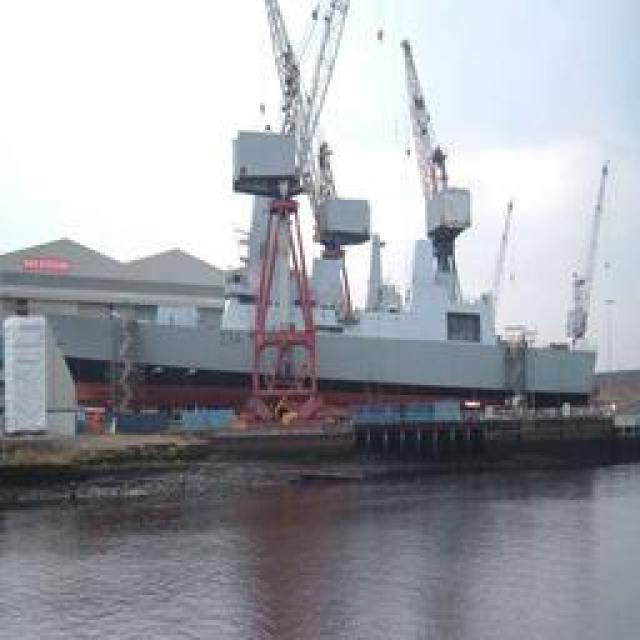Ship: (69, 1, 612, 441)
